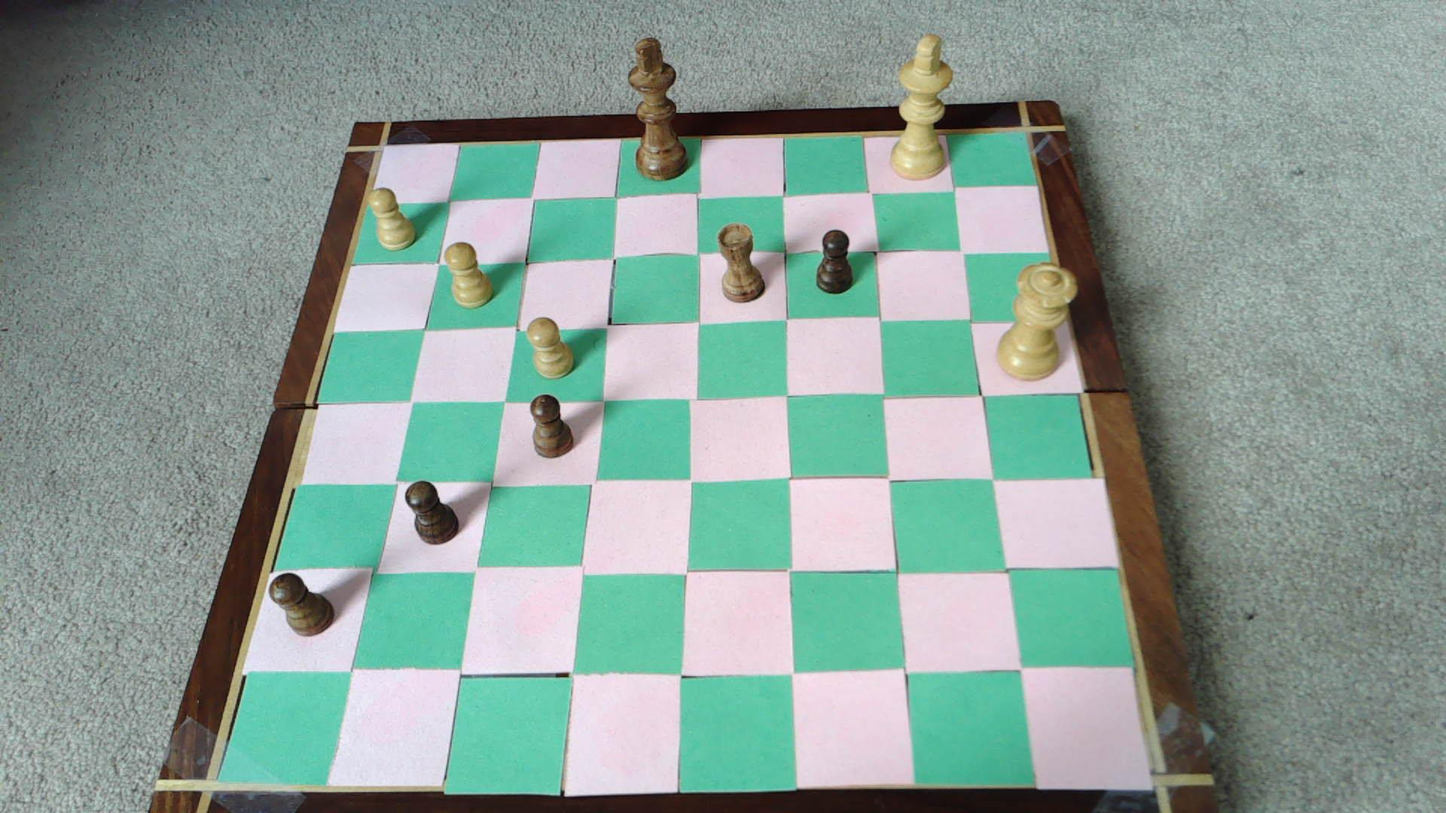dark_piece: (629, 38, 688, 179), (270, 572, 334, 635), (718, 224, 764, 301), (406, 481, 458, 543), (530, 394, 574, 457), (816, 229, 853, 293)
white_piece: (890, 33, 955, 179), (996, 266, 1076, 379), (445, 242, 494, 307), (525, 318, 574, 378), (370, 188, 416, 250)
